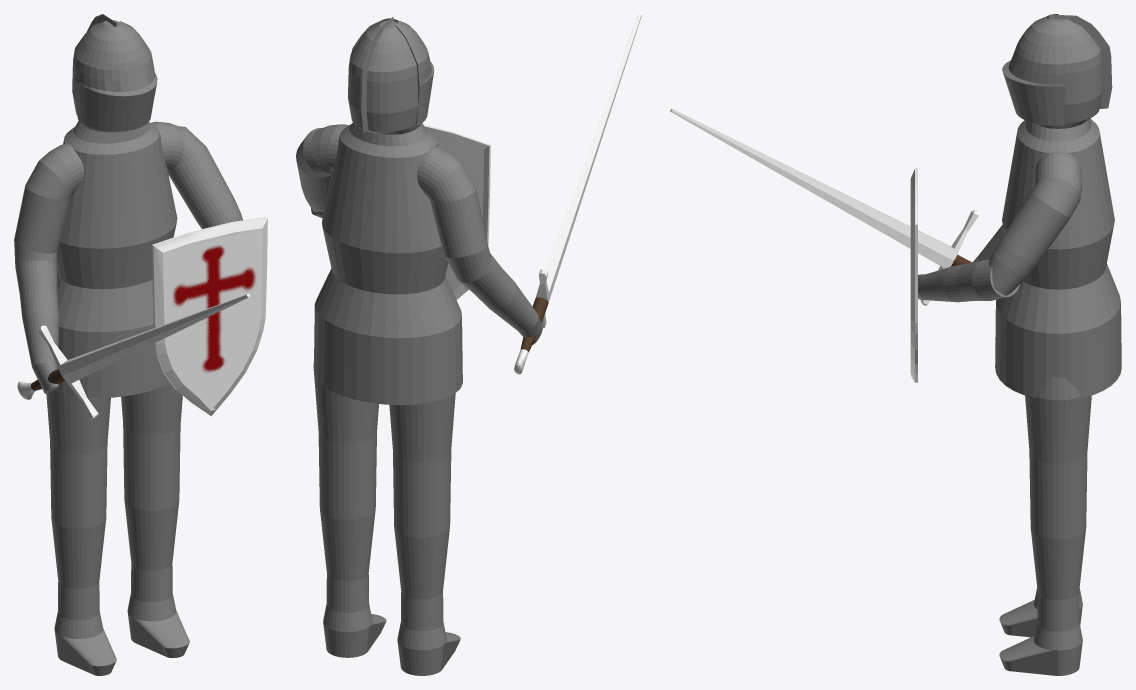
Rendered from Рыцарь1.fbx.
3 renders of one model, left to right at view 1: azimuth 30°, elevation 25°; view 2: azimuth 150°, elevation 25°; view 3: azimuth 270°, elevation 25°, orthographic.
Parts seen in each view (by area): view 1: Цилиндр.003, Куб.004, Цилиндр.015, Цилиндр.014, Цилиндр.017, Цилиндр.016, Цилиндр.009, Цилиндр.011, Цилиндр.010, Цилиндр.013, Цилиндр.007, Цилиндр.006; view 2: Цилиндр.003, Цилиндр.015, Цилиндр.016, Цилиндр.014, Цилиндр.017, Цилиндр.011, Цилиндр.009, Цилиндр.010, Куб.004, Цилиндр.013, Цилиндр.007, Цилиндр.006; view 3: Цилиндр.003, Цилиндр.016, Цилиндр.017, Цилиндр.013, Цилиндр.009, Цилиндр.012, Куб.004, Цилиндр.014, Цилиндр.006.
Boxes of the visible parts, x1,y1,x2,y2 form: Цилиндр.003: (54, 14, 177, 397); Куб.004: (152, 217, 267, 416); Цилиндр.015: (46, 390, 110, 528); Цилиндр.014: (51, 518, 116, 675); Цилиндр.017: (124, 501, 189, 657); Цилиндр.016: (121, 383, 182, 510); Цилиндр.009: (17, 293, 250, 418); Цилиндр.011: (14, 161, 72, 266); Цилиндр.010: (15, 260, 59, 393); Цилиндр.013: (168, 126, 242, 228); Цилиндр.007: (39, 144, 83, 193); Цилиндр.006: (151, 121, 185, 171); Цилиндр.003: (314, 17, 462, 405); Цилиндр.015: (389, 393, 455, 537); Цилиндр.016: (313, 362, 378, 519); Цилиндр.014: (394, 528, 460, 675); Цилиндр.017: (320, 510, 386, 657); Цилиндр.011: (428, 164, 490, 282); Цилиндр.009: (514, 14, 641, 374); Цилиндр.010: (461, 253, 542, 344); Куб.004: (423, 124, 490, 299); Цилиндр.013: (296, 128, 331, 212); Цилиндр.007: (417, 146, 462, 197); Цилиндр.006: (310, 124, 348, 174); Цилиндр.003: (995, 14, 1121, 397); Цилиндр.016: (1025, 377, 1091, 539); Цилиндр.017: (999, 528, 1085, 675); Цилиндр.013: (988, 174, 1082, 295); Цилиндр.009: (670, 108, 978, 305); Цилиндр.012: (918, 259, 1019, 302); Куб.004: (910, 168, 917, 382); Цилиндр.014: (999, 588, 1082, 637); Цилиндр.006: (1034, 151, 1081, 191).
Size of the model in its own units: 42.04 by 114 by 73.79.
